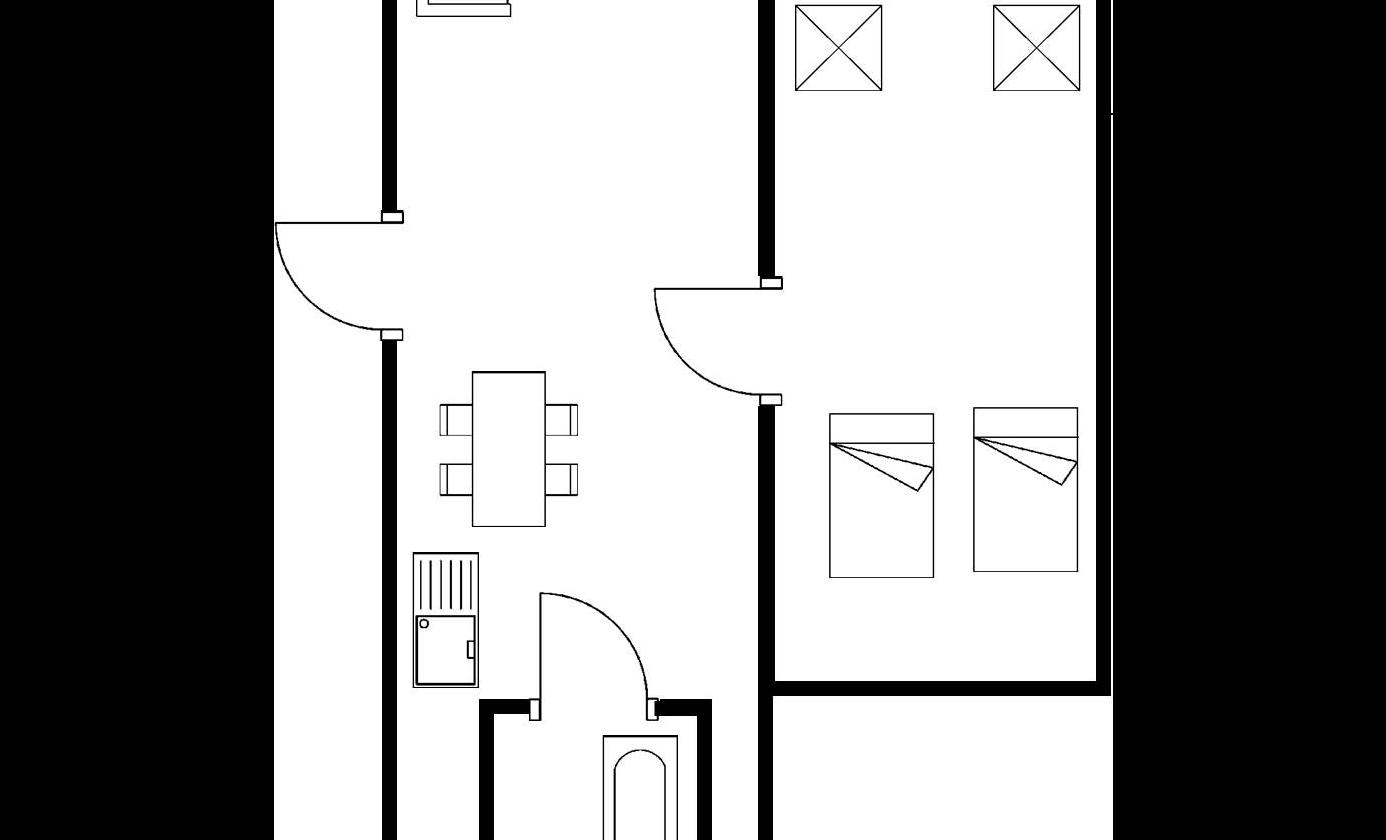bed: (967, 399, 1085, 578), (822, 405, 941, 581)
dining_table: (431, 363, 584, 533)
sink: (407, 546, 483, 694)
tub: (596, 727, 685, 840)
